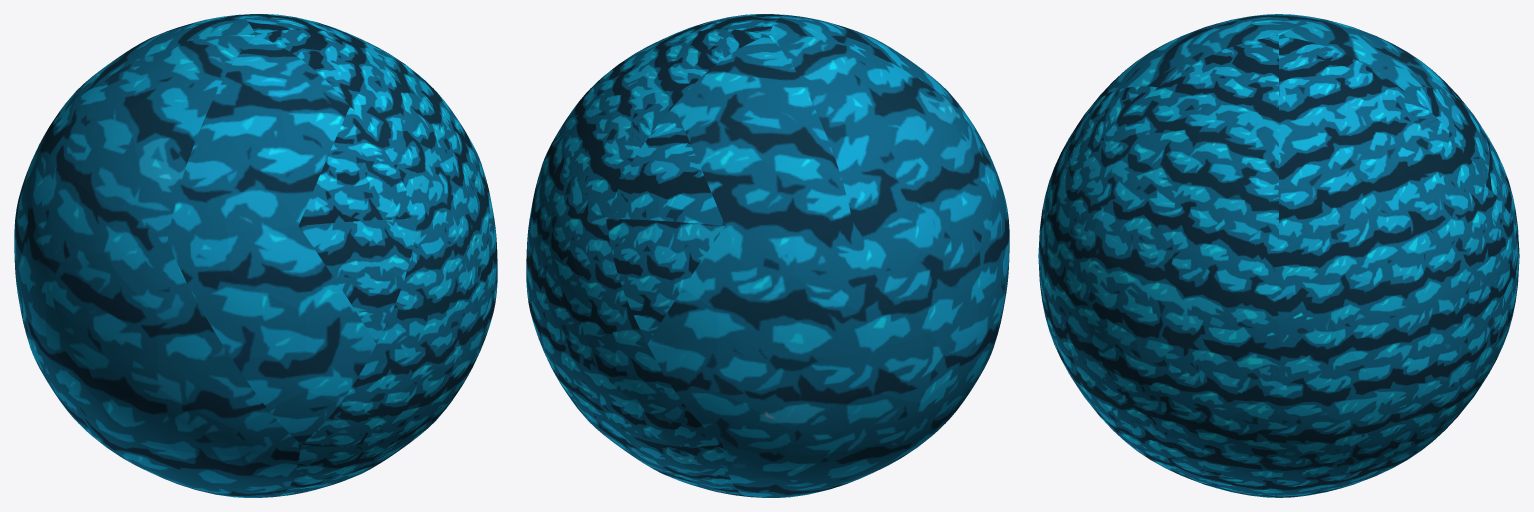
Rendered from yarn.fbx.
The picture shows the model from 3 angles, left to right: view 1: azimuth 30°, elevation 25°; view 2: azimuth 150°, elevation 25°; view 3: azimuth 270°, elevation 25°; orthographic projection.
Visible parts, largest first — view 1: Icosphere; view 2: Icosphere; view 3: Icosphere.
Boxes of the visible parts, x1,y1,x2,y2 form: Icosphere: (14, 14, 497, 497); Icosphere: (526, 14, 1009, 497); Icosphere: (1038, 14, 1519, 497).
Bounding box in the file's own units: 182 × 183 × 181.
Materials: 1 (1 with a texture image).
